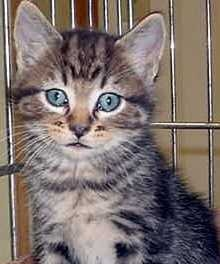Cat: (12, 33, 219, 263)
